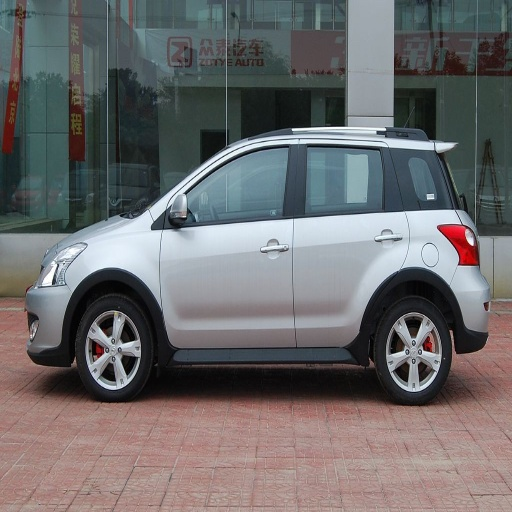back_bumper: (452, 279, 488, 335)
back_left_door: (295, 140, 407, 345)
front_left_door: (160, 141, 297, 346)
